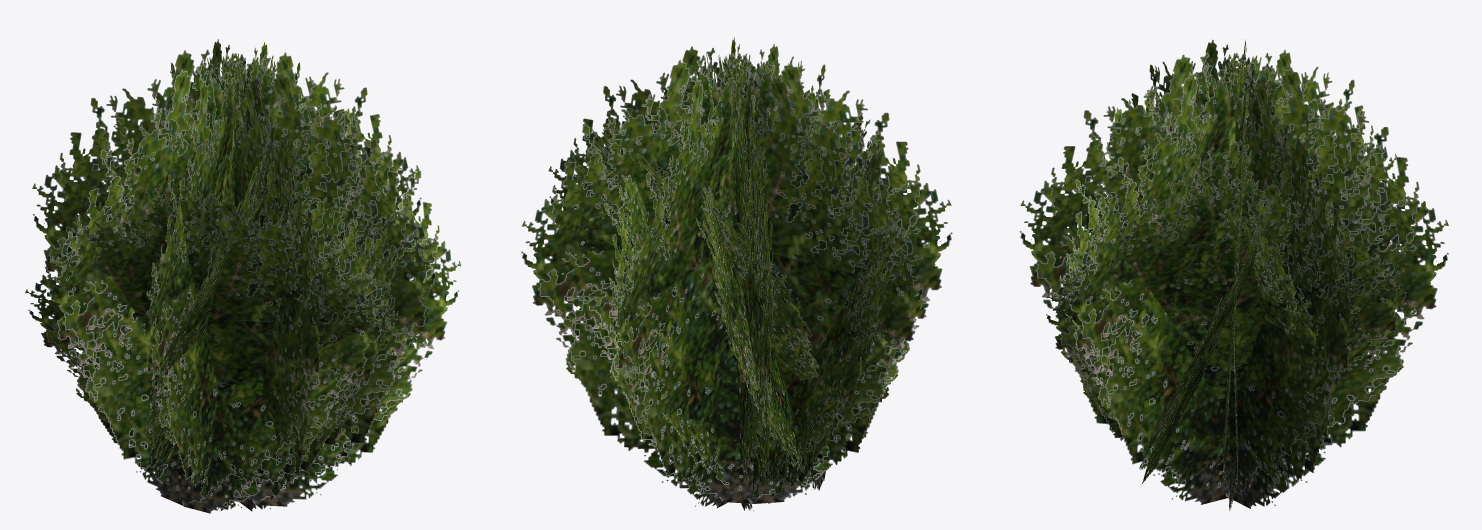
The model's file is Planter_004.fbx.
The picture shows the model from 3 angles, left to right: view 1: azimuth 30°, elevation 25°; view 2: azimuth 150°, elevation 25°; view 3: azimuth 270°, elevation 25°; orthographic projection.
Parts seen in each view (by area): view 1: Planters_004; view 2: Planters_004; view 3: Planters_004.
Part boxes in pixels (x1,y1,x2,y2): Planters_004: [25, 39, 461, 513]; Planters_004: [521, 37, 952, 511]; Planters_004: [1019, 39, 1448, 510].
Size of the model in its own units: 284 by 310 by 282.
